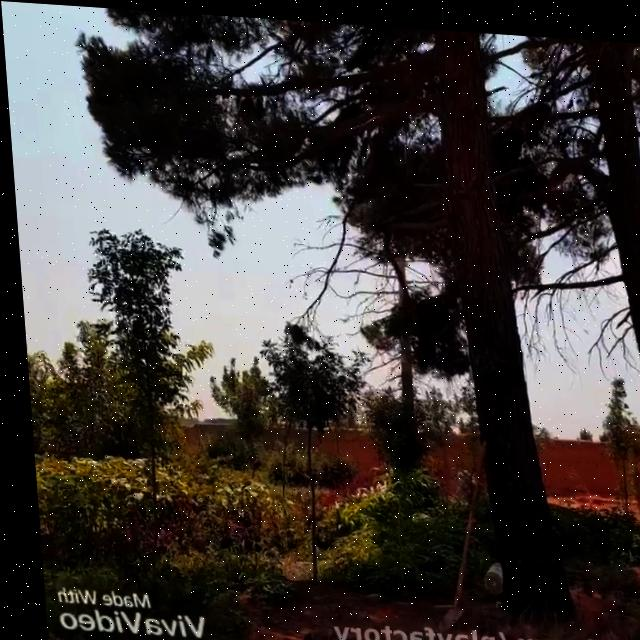drone: (331, 307, 347, 318)
